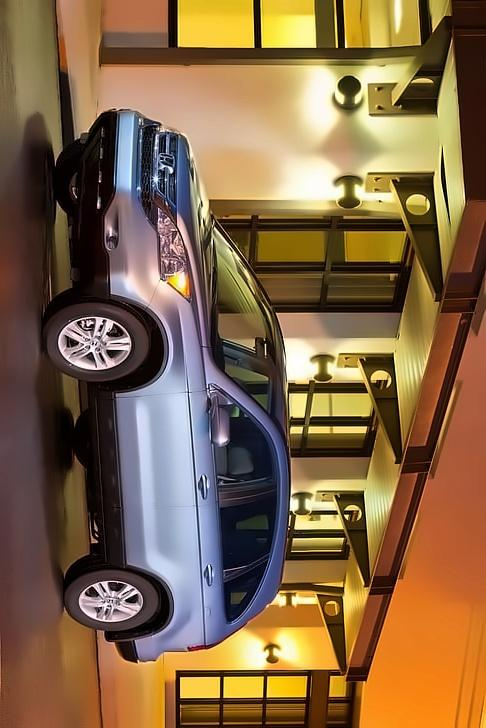Car hood: (171, 129, 219, 325)
Fender - -F-L-: (97, 282, 229, 401)
Fender - -R-L-: (148, 577, 248, 644)
Front bumper: (76, 91, 155, 307)
Headlight - -L-: (151, 196, 200, 308)
Headlight - -R-: (152, 115, 186, 142)
Passenger-s door - -F-L-: (112, 389, 287, 509)
Passenger-s door - -R-L-: (123, 507, 290, 599)
Rear bumper: (117, 620, 197, 682)
Rear light - -L-: (182, 616, 254, 659)
Side bumper - -L-: (82, 380, 138, 574)
Side mirror - -L-: (200, 390, 234, 454)
